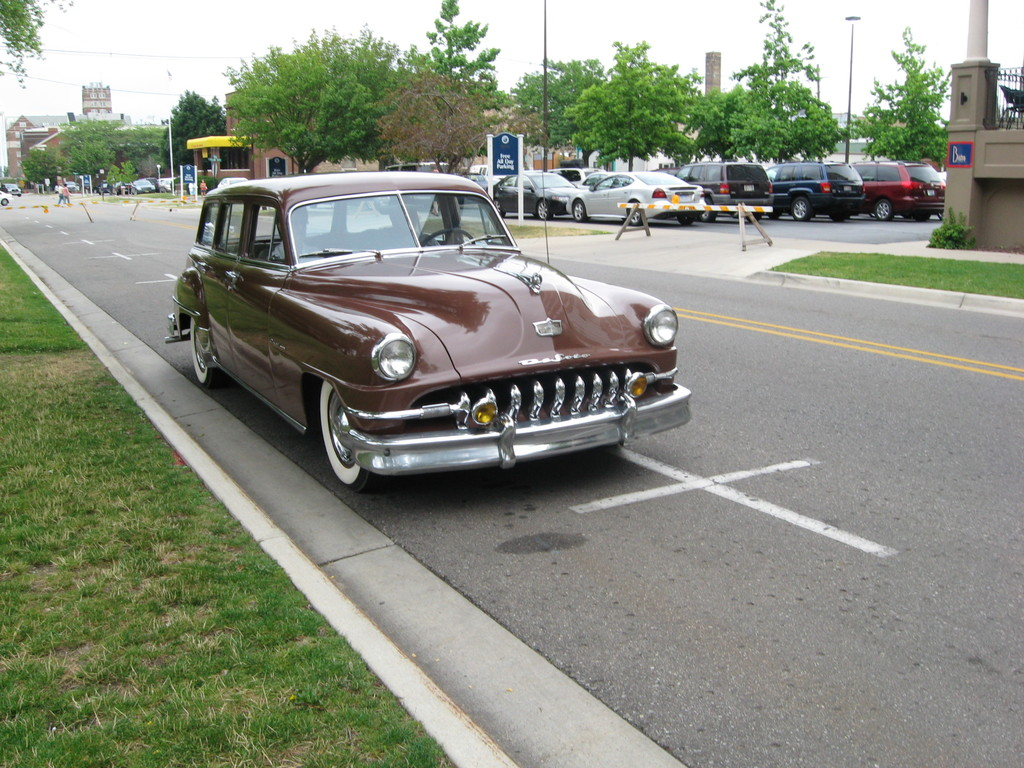Car: (160, 169, 693, 490), (562, 171, 701, 224), (488, 167, 574, 222), (540, 158, 615, 188), (451, 167, 501, 207), (130, 179, 156, 196), (0, 190, 12, 206), (159, 176, 170, 192)
